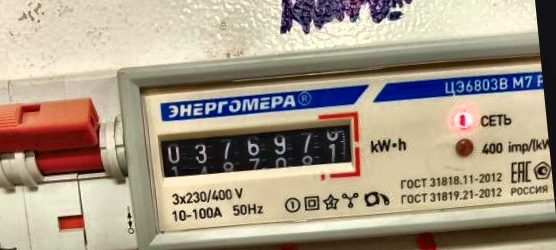0: (164, 141, 181, 164)
1: (326, 141, 337, 164)
3: (192, 141, 207, 164)
6: (244, 132, 261, 157)
7: (218, 136, 234, 160), (298, 128, 314, 152)
9: (271, 132, 287, 155)
screen: (147, 106, 367, 199)
